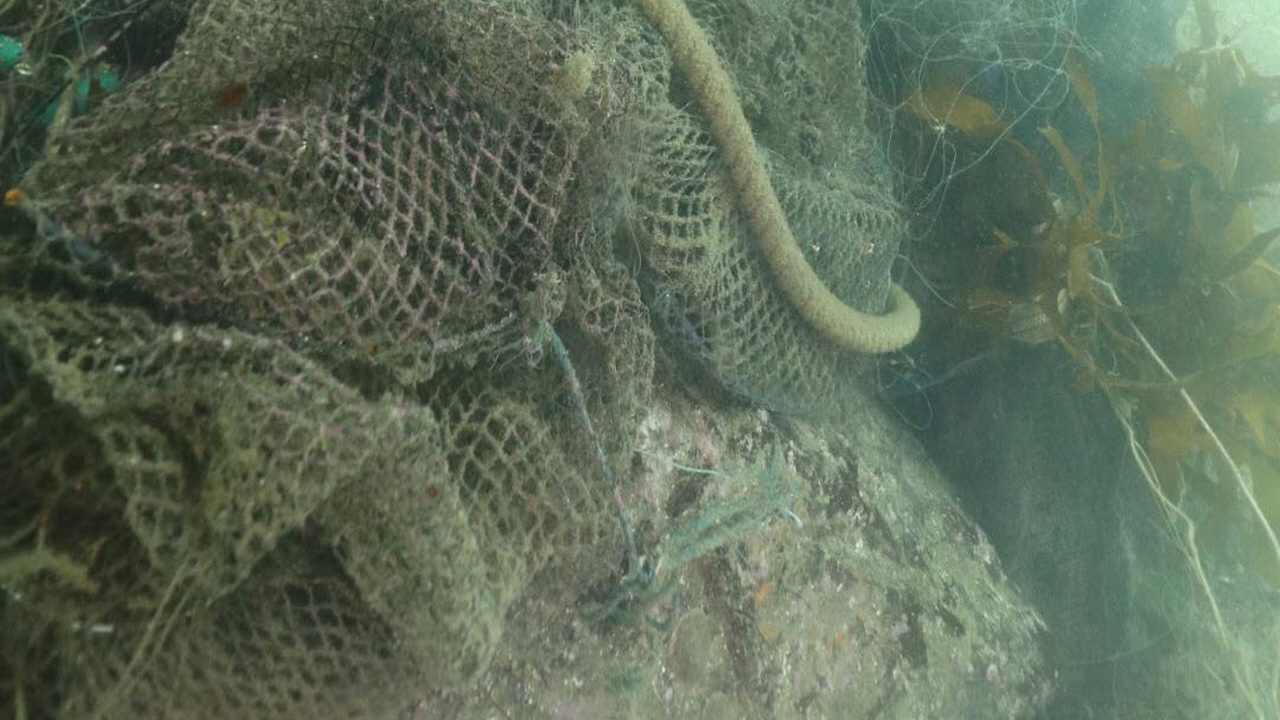fish net: (0, 0, 902, 720)
rope: (638, 0, 918, 348)
